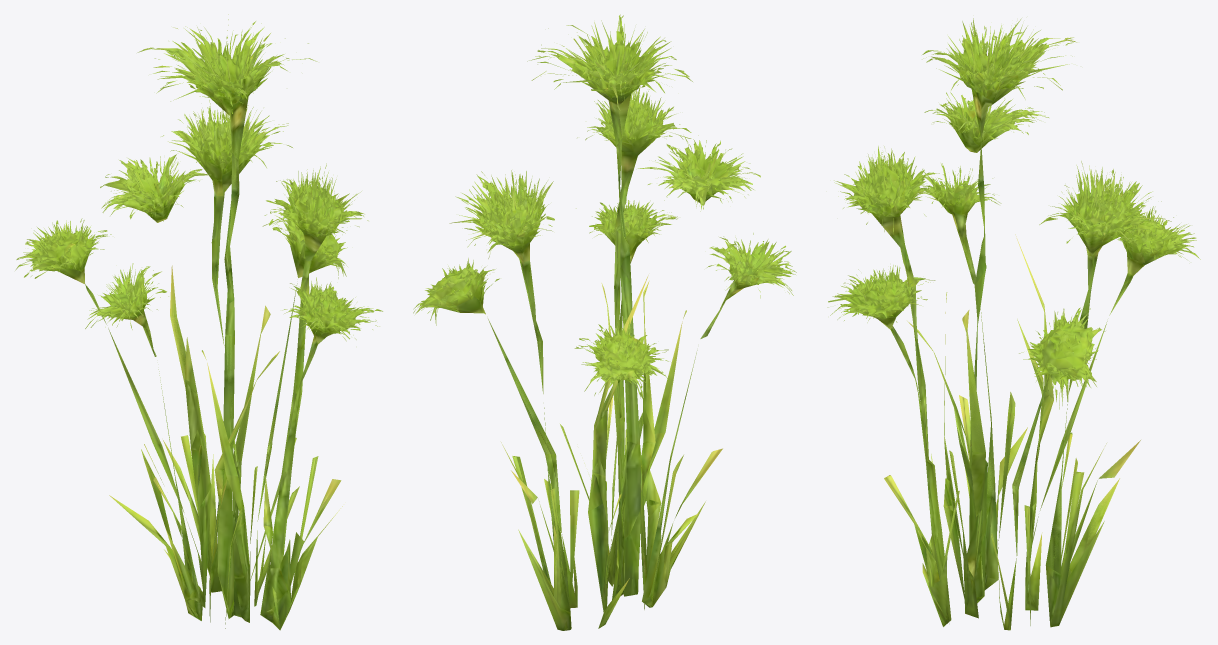
File: papyrus.glb
The picture shows the model from 3 angles, left to right: view 1: azimuth 30°, elevation 25°; view 2: azimuth 150°, elevation 25°; view 3: azimuth 270°, elevation 25°; orthographic projection.
Bounding box in the file's own units: 1.07 × 1.89 × 1.1.
Materials: 1 (1 with a texture image).
